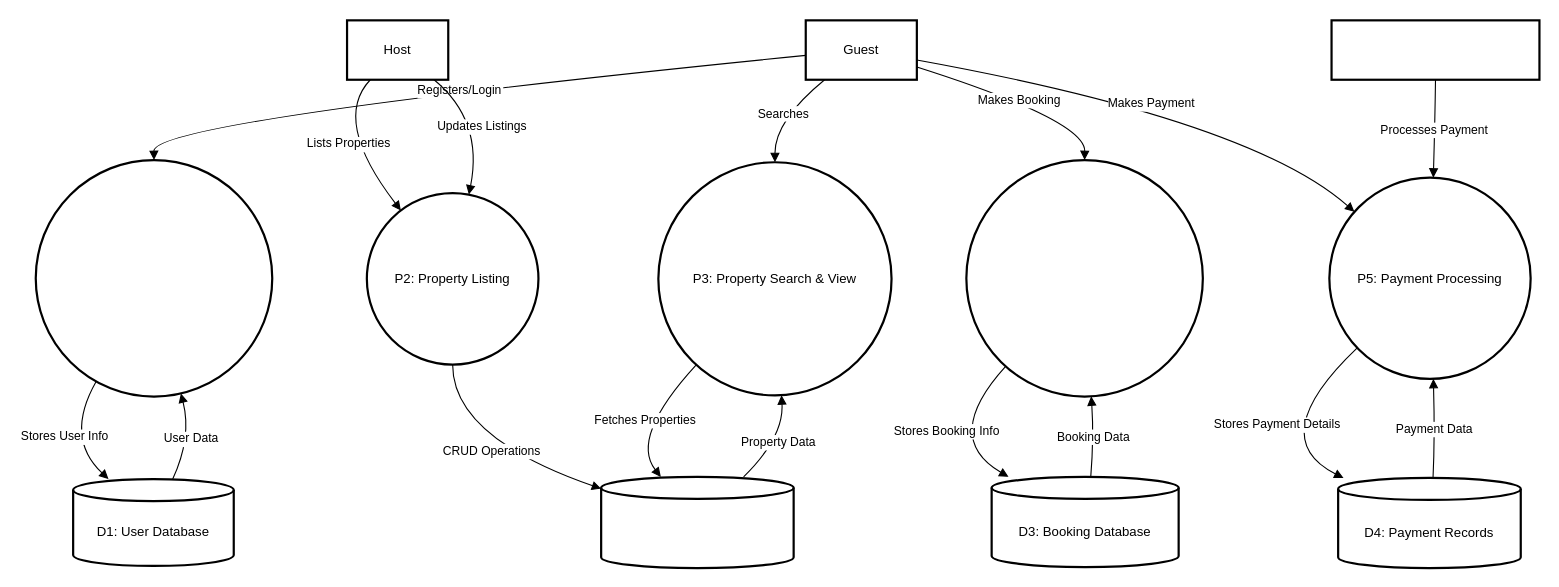
The diagram is 1559 pixels wide and 587 high, and some of its shapes have lost their labels. The box of each missing label's shape, as (x1, y1, x2, y2) in pixels:
D2: Property Database: (600, 475, 794, 569)
P1: User Registration & Login: (34, 158, 273, 397)
P4: Booking Request & Confirmation: (965, 158, 1203, 397)
Payment Gateway: (1330, 19, 1540, 80)
